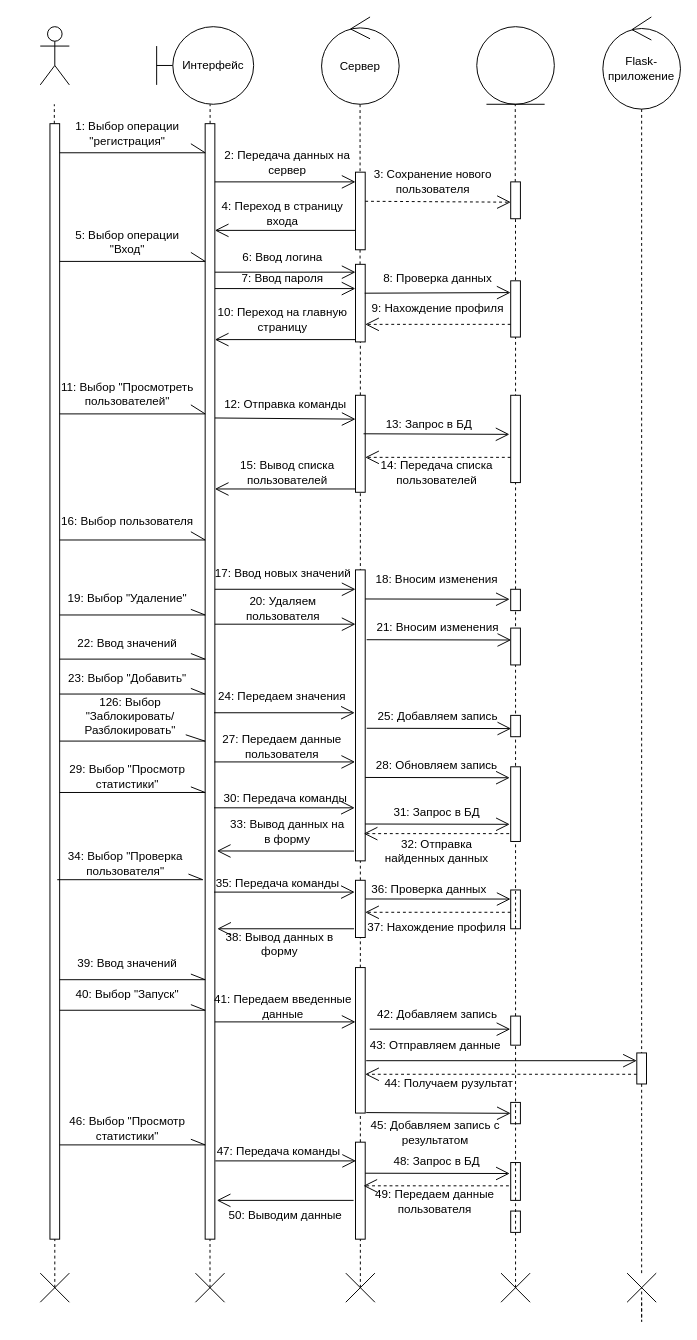
Some shapes in this 697 by 1340 pixel diagram are drawn without their labels. Each missing label, with the centre of its shape:
"База данных" goes at point 515,65.
"Пользователи" goes at point 54,55.
